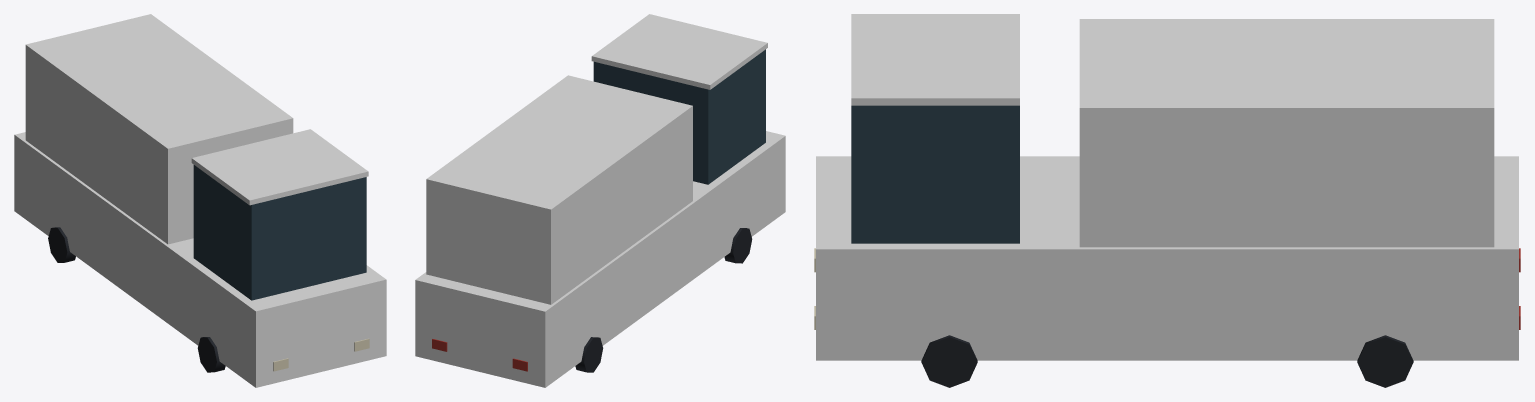
The model's file is veh_truck_1.d0dc677bcc19.glb.
The picture shows the model from 3 angles, left to right: view 1: azimuth 30°, elevation 25°; view 2: azimuth 150°, elevation 25°; view 3: azimuth 270°, elevation 25°; orthographic projection. The views are drawn at different scales.
Parts seen in each view (by area): view 1: LOD0; view 2: LOD0; view 3: LOD0.
Part boxes in pixels (x1,y1,x2,y2): LOD0: [14, 14, 386, 387]; LOD0: [415, 14, 785, 387]; LOD0: [814, 14, 1520, 387].
Size of what is drawn, in the model's own units: 2.6 by 3.56 by 8.04.
